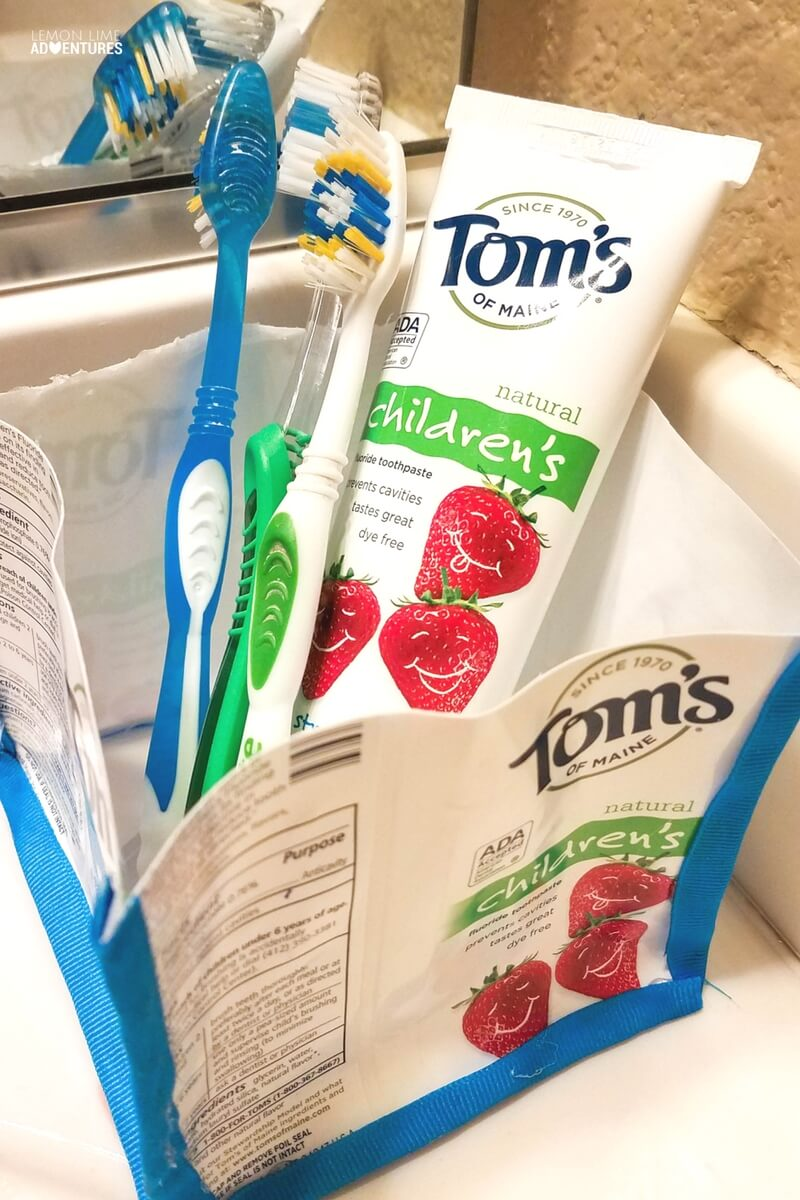Nonrec_Plastic: (275, 64, 770, 763), (288, 55, 409, 759), (148, 30, 238, 863)
